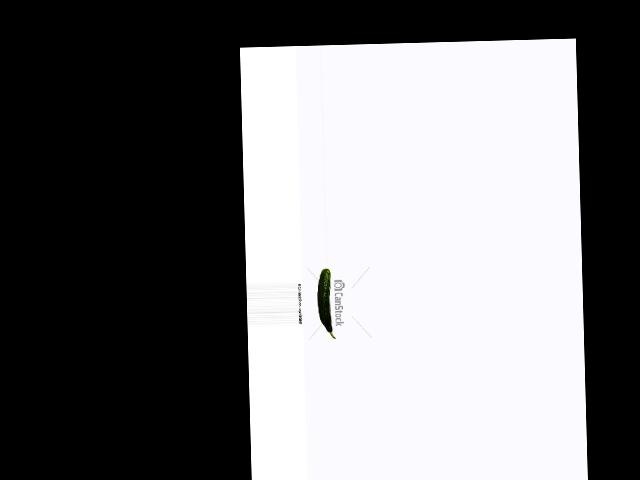cucumber: (316, 268, 335, 340)
